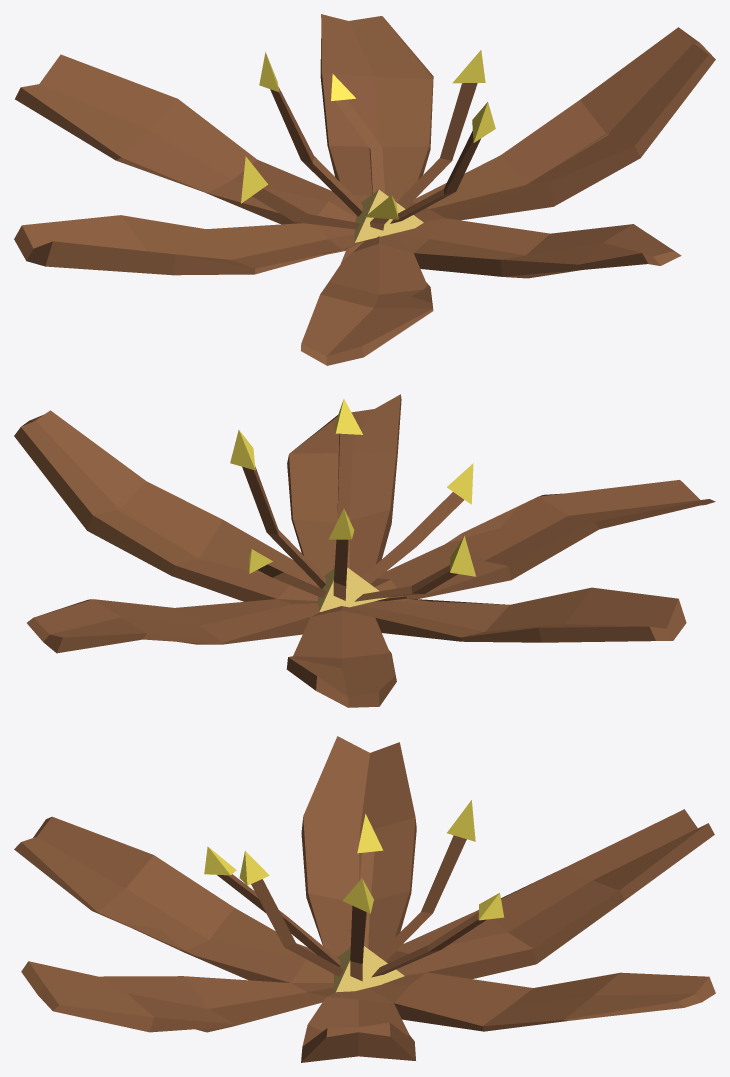
The model's file is dead-camas.glb.
3 renders of one model, top to bottom at view 1: azimuth 30°, elevation 25°; view 2: azimuth 150°, elevation 25°; view 3: azimuth 270°, elevation 25°, orthographic. The views are drawn at different scales.
Parts seen in each view (by area): view 1: Plane, Cylinder.001, Cone; view 2: Plane, Cylinder.001, Cone; view 3: Plane, Cylinder.001, Cone.
Part boxes in pixels (x1,y1,x2,y2): Plane: (14,14,715,365); Cylinder.001: (241,50,495,230); Cone: (354,189,423,242); Plane: (14,394,715,707); Cylinder.001: (230,399,475,601); Cone: (318,567,388,611); Plane: (14,736,715,1062); Cylinder.001: (204,800,504,981); Cone: (334,946,404,992).
Size of the model in its own units: 0.3693 by 0.0899 by 0.3297.
